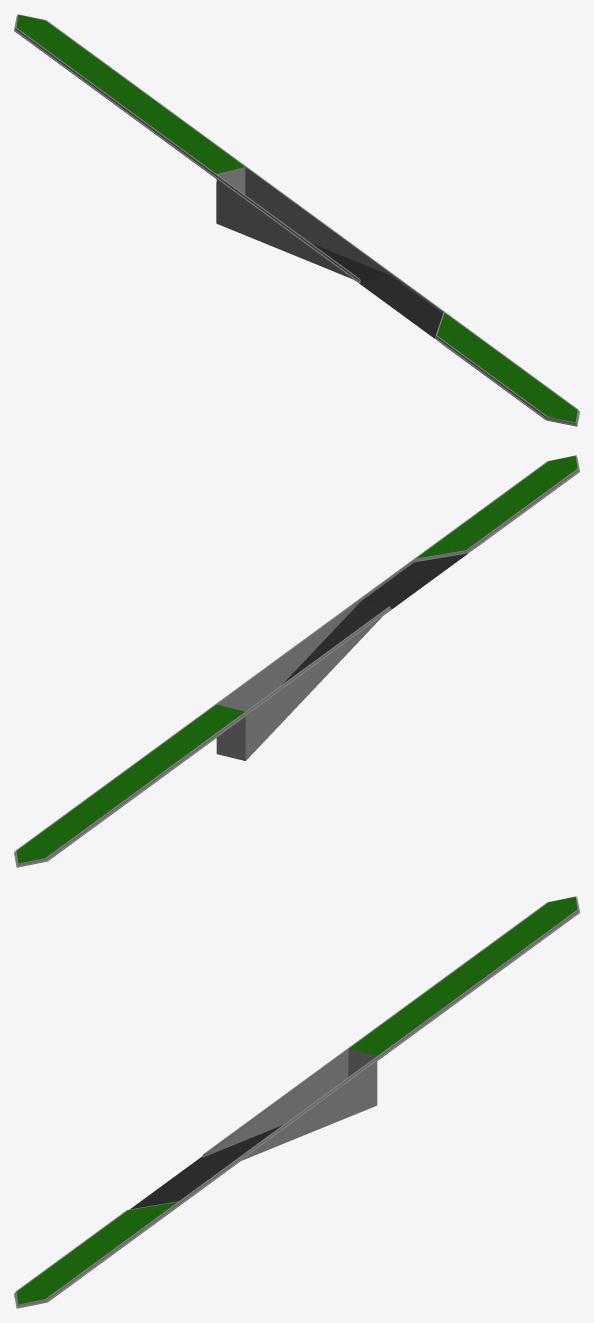
File: Namiki.Median.North.fbx
3 views of the same model, one above another, from view 1: azimuth 30°, elevation 25°; view 2: azimuth 150°, elevation 25°; view 3: azimuth 330°, elevation 25° (orthographic).
Parts seen in each view (by area): view 1: Cube.001; view 2: Cube.001; view 3: Cube.001.
Boxes of the visible parts, left/top/right/bottom form: Cube.001: left=14, top=14, right=579, bottom=426; Cube.001: left=14, top=455, right=579, bottom=867; Cube.001: left=14, top=896, right=579, bottom=1308.
Bounding box in the file's own units: 8444 × 295 × 411.
